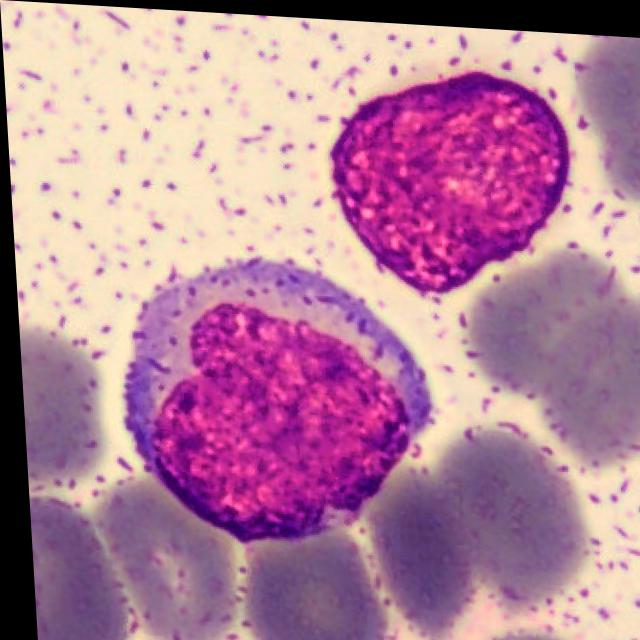Mieloblasto: (119, 258, 429, 545), (328, 66, 571, 296)
